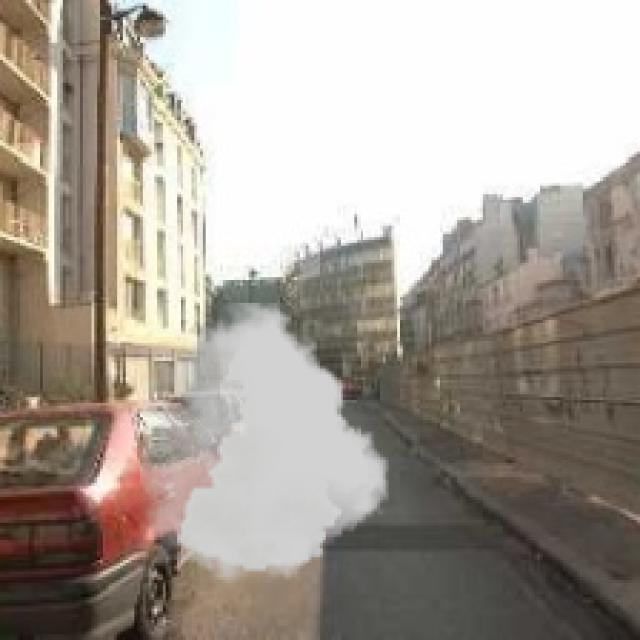Smoke: (140, 303, 389, 583)
